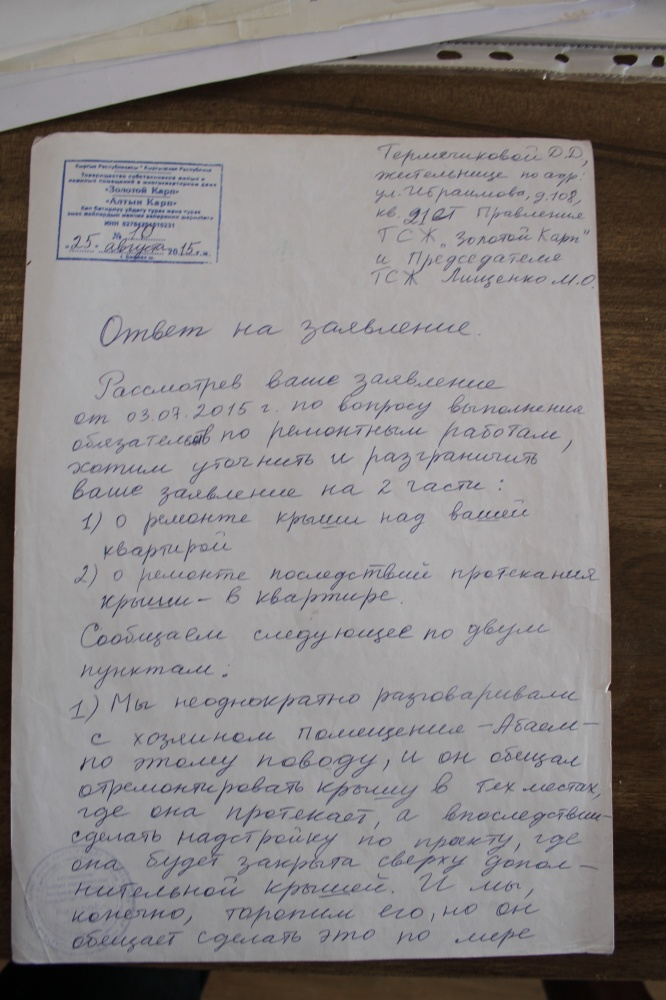page: (29, 147, 596, 950)
